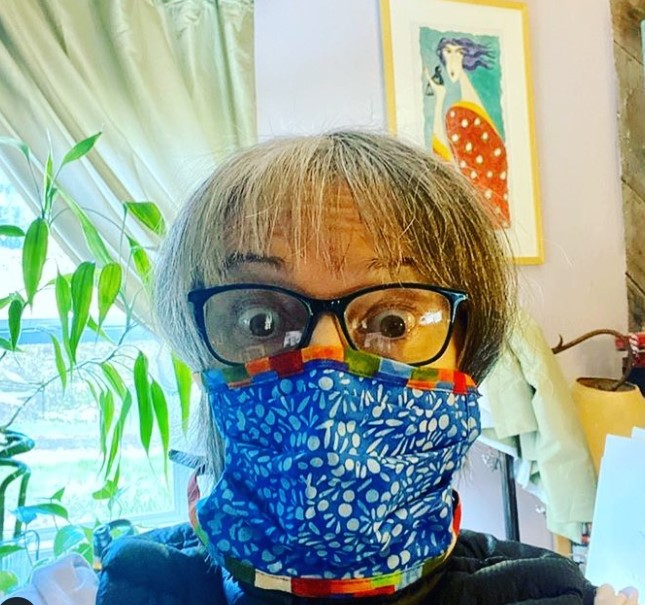face_with_mask: (177, 142, 509, 601)
